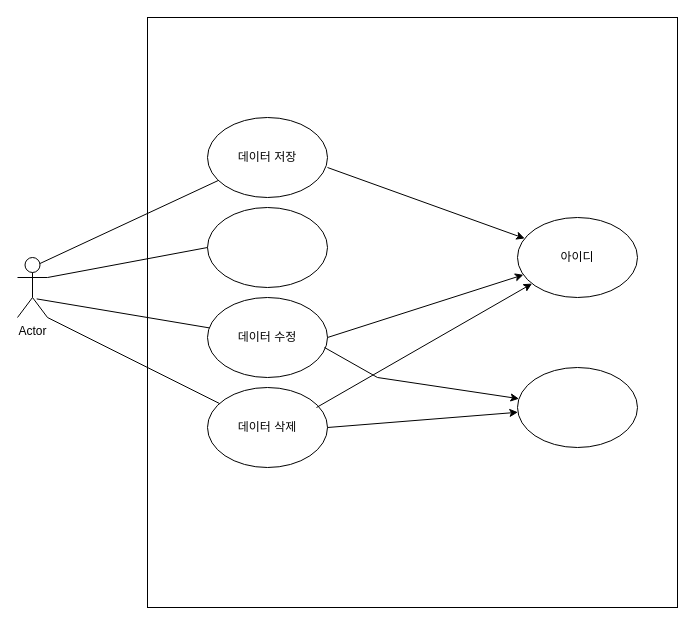
Image size: 695x625. Some labels were removed from this diagram. Here are the shapes that lost their labels. From the top down, the centre of each, then its label:
At (267,247): "데이터 조회".
At (577,407): "비밀번호".
